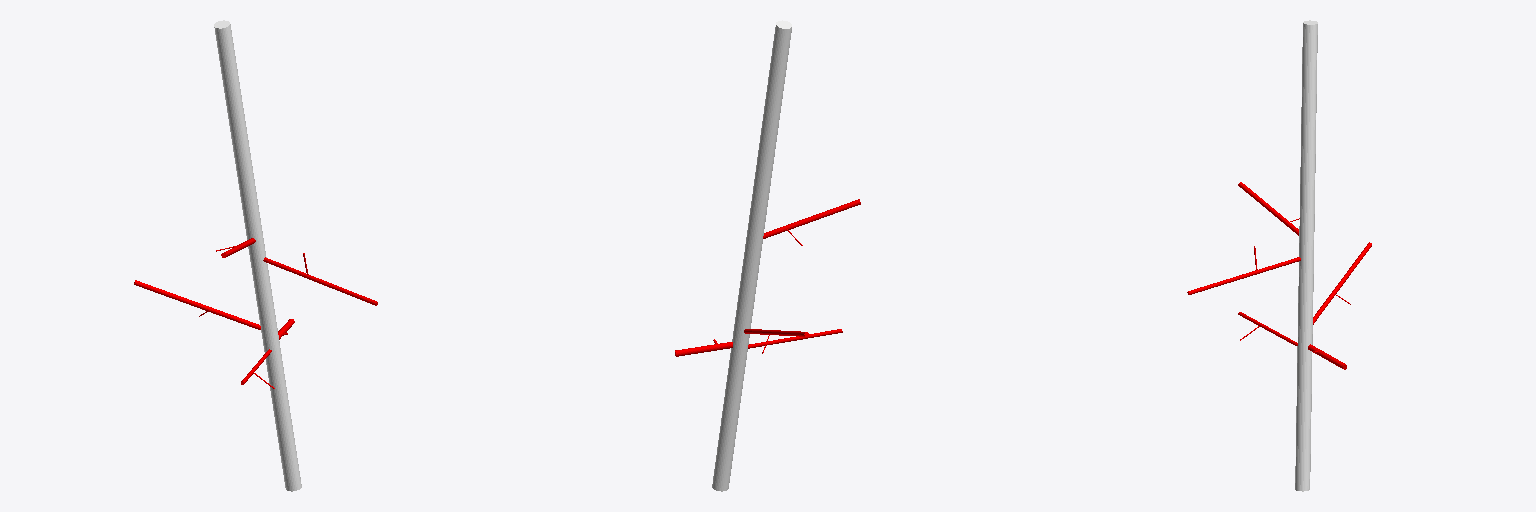
The robot description file, URDF, robot "tree_172.urdf":
<?xml version='1.0' encoding='UTF-8'?>
<robot name="tree_172.urdf">
  <link name="branch_0">
    <inertial>
      <origin xyz="0.0 0.0 0.0" rpy="0.0 -0.0 0.0"/>
      <mass value="0.1"/>
      <inertia ixx="0.001" ixy="0.0" ixz="0.0" iyy="0.001" iyz="0.0" izz="0.001"/>
    </inertial>
    <visual name="branch_0_visual">
      <geometry>
        <cylinder radius="0.14267530334349696" length="9.165448713201767"/>
      </geometry>
      <material name="branch_material"/>
      <origin xyz="-0.6694224871284796 0.0733041070322676 4.532975024219955" rpy="0.0 0.14748247891436386 3.0325237148946798"/>
    </visual>
    <collision name="branch_0_collision">
      <geometry>
        <cylinder radius="0.14267530334349696" length="9.165448713201767"/>
      </geometry>
      <origin xyz="-0.6694224871284796 0.0733041070322676 4.532975024219955" rpy="0.0 0.14748247891436386 3.0325237148946798"/>
    </collision>
  </link>
  <link name="branch_1">
    <inertial>
      <origin xyz="0.0 0.0 0.0" rpy="0.0 -0.0 0.0"/>
      <mass value="0.1"/>
      <inertia ixx="0.001" ixy="0.0" ixz="0.0" iyy="0.001" iyz="0.0" izz="0.001"/>
    </inertial>
    <visual name="branch_1_visual">
      <geometry>
        <cylinder radius="0.04709918427276414" length="1.9191095086305197"/>
      </geometry>
      <material name="semantic_material"/>
      <origin xyz="0.0 0.0 0.0" rpy="0.0 -0.0 0.0"/>
    </visual>
    <collision name="branch_1_collision">
      <geometry>
        <cylinder radius="0.04709918427276414" length="1.9191095086305197"/>
      </geometry>
      <origin xyz="0.0 0.0 0.0" rpy="0.0 -0.0 0.0"/>
    </collision>
  </link>
  <link name="branch_2">
    <inertial>
      <origin xyz="0.0 0.0 0.0" rpy="0.0 -0.0 0.0"/>
      <mass value="0.1"/>
      <inertia ixx="0.001" ixy="0.0" ixz="0.0" iyy="0.001" iyz="0.0" izz="0.001"/>
    </inertial>
    <visual name="branch_2_visual">
      <geometry>
        <cylinder radius="0.01000058030632034" length="0.5427940398771584"/>
      </geometry>
      <material name="semantic_material"/>
      <origin xyz="0.0 0.0 0.0" rpy="0.0 -0.0 0.0"/>
    </visual>
    <collision name="branch_2_collision">
      <geometry>
        <cylinder radius="0.01000058030632034" length="0.5427940398771584"/>
      </geometry>
      <origin xyz="0.0 0.0 0.0" rpy="0.0 -0.0 0.0"/>
    </collision>
  </link>
  <link name="branch_3">
    <inertial>
      <origin xyz="0.0 0.0 0.0" rpy="0.0 -0.0 0.0"/>
      <mass value="0.1"/>
      <inertia ixx="0.001" ixy="0.0" ixz="0.0" iyy="0.001" iyz="0.0" izz="0.001"/>
    </inertial>
    <visual name="branch_3_visual">
      <geometry>
        <cylinder radius="0.043355935790993116" length="2.4969899211200386"/>
      </geometry>
      <material name="semantic_material"/>
      <origin xyz="0.0 0.0 0.0" rpy="0.0 -0.0 0.0"/>
    </visual>
    <collision name="branch_3_collision">
      <geometry>
        <cylinder radius="0.043355935790993116" length="2.4969899211200386"/>
      </geometry>
      <origin xyz="0.0 0.0 0.0" rpy="0.0 -0.0 0.0"/>
    </collision>
  </link>
  <link name="branch_4">
    <inertial>
      <origin xyz="0.0 0.0 0.0" rpy="0.0 -0.0 0.0"/>
      <mass value="0.1"/>
      <inertia ixx="0.001" ixy="0.0" ixz="0.0" iyy="0.001" iyz="0.0" izz="0.001"/>
    </inertial>
    <visual name="branch_4_visual">
      <geometry>
        <cylinder radius="0.01" length="0.4147382011967279"/>
      </geometry>
      <material name="semantic_material"/>
      <origin xyz="0.0 0.0 0.0" rpy="0.0 -0.0 0.0"/>
    </visual>
    <collision name="branch_4_collision">
      <geometry>
        <cylinder radius="0.01" length="0.4147382011967279"/>
      </geometry>
      <origin xyz="0.0 0.0 0.0" rpy="0.0 -0.0 0.0"/>
    </collision>
  </link>
  <link name="branch_5">
    <inertial>
      <origin xyz="0.0 0.0 0.0" rpy="0.0 -0.0 0.0"/>
      <mass value="0.1"/>
      <inertia ixx="0.001" ixy="0.0" ixz="0.0" iyy="0.001" iyz="0.0" izz="0.001"/>
    </inertial>
    <visual name="branch_5_visual">
      <geometry>
        <cylinder radius="0.03910524820457123" length="2.487138898458027"/>
      </geometry>
      <material name="semantic_material"/>
      <origin xyz="0.0 0.0 0.0" rpy="0.0 -0.0 0.0"/>
    </visual>
    <collision name="branch_5_collision">
      <geometry>
        <cylinder radius="0.03910524820457123" length="2.487138898458027"/>
      </geometry>
      <origin xyz="0.0 0.0 0.0" rpy="0.0 -0.0 0.0"/>
    </collision>
  </link>
  <link name="branch_6">
    <inertial>
      <origin xyz="0.0 0.0 0.0" rpy="0.0 -0.0 0.0"/>
      <mass value="0.1"/>
      <inertia ixx="0.001" ixy="0.0" ixz="0.0" iyy="0.001" iyz="0.0" izz="0.001"/>
    </inertial>
    <visual name="branch_6_visual">
      <geometry>
        <cylinder radius="0.014993668164586122" length="0.49755971069379246"/>
      </geometry>
      <material name="semantic_material"/>
      <origin xyz="0.0 0.0 0.0" rpy="0.0 -0.0 0.0"/>
    </visual>
    <collision name="branch_6_collision">
      <geometry>
        <cylinder radius="0.014993668164586122" length="0.49755971069379246"/>
      </geometry>
      <origin xyz="0.0 0.0 0.0" rpy="0.0 -0.0 0.0"/>
    </collision>
  </link>
  <link name="branch_7">
    <inertial>
      <origin xyz="0.0 0.0 0.0" rpy="0.0 -0.0 0.0"/>
      <mass value="0.1"/>
      <inertia ixx="0.001" ixy="0.0" ixz="0.0" iyy="0.001" iyz="0.0" izz="0.001"/>
    </inertial>
    <visual name="branch_7_visual">
      <geometry>
        <cylinder radius="0.05473734014427949" length="1.1320440625408068"/>
      </geometry>
      <material name="semantic_material"/>
      <origin xyz="0.0 0.0 0.0" rpy="0.0 -0.0 0.0"/>
    </visual>
    <collision name="branch_7_collision">
      <geometry>
        <cylinder radius="0.05473734014427949" length="1.1320440625408068"/>
      </geometry>
      <origin xyz="0.0 0.0 0.0" rpy="0.0 -0.0 0.0"/>
    </collision>
  </link>
  <link name="branch_8">
    <inertial>
      <origin xyz="0.0 0.0 0.0" rpy="0.0 -0.0 0.0"/>
      <mass value="0.1"/>
      <inertia ixx="0.001" ixy="0.0" ixz="0.0" iyy="0.001" iyz="0.0" izz="0.001"/>
    </inertial>
    <visual name="branch_8_visual">
      <geometry>
        <cylinder radius="0.0195217997149414" length="0.16916786542642595"/>
      </geometry>
      <material name="semantic_material"/>
      <origin xyz="0.0 0.0 0.0" rpy="0.0 -0.0 0.0"/>
    </visual>
    <collision name="branch_8_collision">
      <geometry>
        <cylinder radius="0.0195217997149414" length="0.16916786542642595"/>
      </geometry>
      <origin xyz="0.0 0.0 0.0" rpy="0.0 -0.0 0.0"/>
    </collision>
  </link>
  <link name="branch_9">
    <inertial>
      <origin xyz="0.0 0.0 0.0" rpy="0.0 -0.0 0.0"/>
      <mass value="0.1"/>
      <inertia ixx="0.001" ixy="0.0" ixz="0.0" iyy="0.001" iyz="0.0" izz="0.001"/>
    </inertial>
    <visual name="branch_9_visual">
      <geometry>
        <cylinder radius="0.03459597626590831" length="1.7993728430652771"/>
      </geometry>
      <material name="semantic_material"/>
      <origin xyz="0.0 0.0 0.0" rpy="0.0 -0.0 0.0"/>
    </visual>
    <collision name="branch_9_collision">
      <geometry>
        <cylinder radius="0.03459597626590831" length="1.7993728430652771"/>
      </geometry>
      <origin xyz="0.0 0.0 0.0" rpy="0.0 -0.0 0.0"/>
    </collision>
  </link>
  <link name="branch_10">
    <inertial>
      <origin xyz="0.0 0.0 0.0" rpy="0.0 -0.0 0.0"/>
      <mass value="0.1"/>
      <inertia ixx="0.001" ixy="0.0" ixz="0.0" iyy="0.001" iyz="0.0" izz="0.001"/>
    </inertial>
    <visual name="branch_10_visual">
      <geometry>
        <cylinder radius="0.01161788935688414" length="0.5015662843892249"/>
      </geometry>
      <material name="semantic_material"/>
      <origin xyz="0.0 0.0 0.0" rpy="0.0 -0.0 0.0"/>
    </visual>
    <collision name="branch_10_collision">
      <geometry>
        <cylinder radius="0.01161788935688414" length="0.5015662843892249"/>
      </geometry>
      <origin xyz="0.0 0.0 0.0" rpy="0.0 -0.0 0.0"/>
    </collision>
  </link>
  <joint name="joint_0_1" type="fixed">
    <parent link="branch_0"/>
    <child link="branch_1"/>
    <axis xyz="1. 0. 0."/>
    <origin xyz="-1.3940692449250842 -0.5497709920393188 5.116196311216519" rpy="0.39997096293658957 1.271914635666166 -1.9769596130407008"/>
  </joint>
  <joint name="joint_0_3" type="fixed">
    <parent link="branch_0"/>
    <child link="branch_3"/>
    <axis xyz="1. 0. 0."/>
    <origin xyz="-1.4430771148860877 0.663242315319983 3.5097657202037005" rpy="-0.18561831861343914 1.1974518979982507 2.3880360475001976"/>
  </joint>
  <joint name="joint_0_5" type="fixed">
    <parent link="branch_0"/>
    <child link="branch_5"/>
    <axis xyz="1. 0. 0."/>
    <origin xyz="-0.12349203744617372 -1.0384514357196892 4.3904977114737616" rpy="2.247902610417828 1.4089717373670014 1.1254400898415007"/>
  </joint>
  <joint name="joint_0_7" type="fixed">
    <parent link="branch_0"/>
    <child link="branch_7"/>
    <axis xyz="1. 0. 0."/>
    <origin xyz="0.003677748388639776 0.4234249813031451 2.775145839769654" rpy="-2.1416838651781935 1.4385429004682362 -1.4043902827672146"/>
  </joint>
  <joint name="joint_0_9" type="fixed">
    <parent link="branch_0"/>
    <child link="branch_9"/>
    <axis xyz="1. 0. 0."/>
    <origin xyz="-1.0543580457692074 -0.5724592758277752 2.7932819294955396" rpy="0.9883740914770802 1.4346910889804034 -1.3913242227584772"/>
  </joint>
  <joint name="joint_1_2" type="fixed">
    <parent link="branch_0"/>
    <child link="branch_2"/>
    <axis xyz="1. 0. 0."/>
    <origin xyz="-1.351329447298018 -0.16922671782140886 4.947954759476307" rpy="-1.8171223852648228 0.3434260801836035 0.9942311711534566"/>
  </joint>
  <joint name="joint_3_4" type="fixed">
    <parent link="branch_0"/>
    <child link="branch_4"/>
    <axis xyz="1. 0. 0."/>
    <origin xyz="-1.3390014691871701 0.749452524985966 3.327377203426514" rpy="-2.3672861244382903 0.5527519349545565 -0.3684674445778589"/>
  </joint>
  <joint name="joint_5_6" type="fixed">
    <parent link="branch_0"/>
    <child link="branch_6"/>
    <axis xyz="1. 0. 0."/>
    <origin xyz="-0.26674083771962365 -0.8828831501392701 4.652023737829495" rpy="-0.2453770178718202 0.007825911392072062 1.998171714726106"/>
  </joint>
  <joint name="joint_7_8" type="fixed">
    <parent link="branch_0"/>
    <child link="branch_8"/>
    <axis xyz="1. 0. 0."/>
    <origin xyz="-0.06760619308444055 0.2556354720046014 2.818978538189761" rpy="-1.1941138577848782 -0.136596252313197 -2.246737345641929"/>
  </joint>
  <joint name="joint_9_10" type="fixed">
    <parent link="branch_0"/>
    <child link="branch_10"/>
    <axis xyz="1. 0. 0."/>
    <origin xyz="-1.1676467529243828 -0.9808748635263802 2.7068284072685382" rpy="2.0289308321294706 0.15899611540370898 0.5901346587353062"/>
  </joint>
  <material name="branch_material">
    <color rgba="1. 1. 1. 1."/>
  </material>
  <material name="semantic_material">
    <color rgba="1. 0. 0. 1."/>
  </material>
</robot>

--- Render facts (derived) ---
Views: 3 orthographic renders of the robot side by side, from view 1: azimuth 30°, elevation 25°; view 2: azimuth 150°, elevation 25°; view 3: azimuth 270°, elevation 25°.
Model tree_172.urdf with 11 links and 10 joints (10 fixed), rooted at branch_0, posed all joints at 0.
Links seen in each view (by area): view 1: branch_0, branch_3, branch_5; view 2: branch_0, branch_1; view 3: branch_0.
Boxes of the visible links, x1,y1,x2,y2 form: branch_0: (214,20,301,491); branch_3: (134,280,260,329); branch_5: (263,257,377,305); branch_0: (712,20,791,491); branch_1: (763,199,860,238); branch_0: (1295,20,1317,491).
Bounding box of the posed robot: 2.92 × 3.48 × 9.11 m (x, y, z).
Geometry: primitives only (box / cylinder / sphere), no mesh files.
